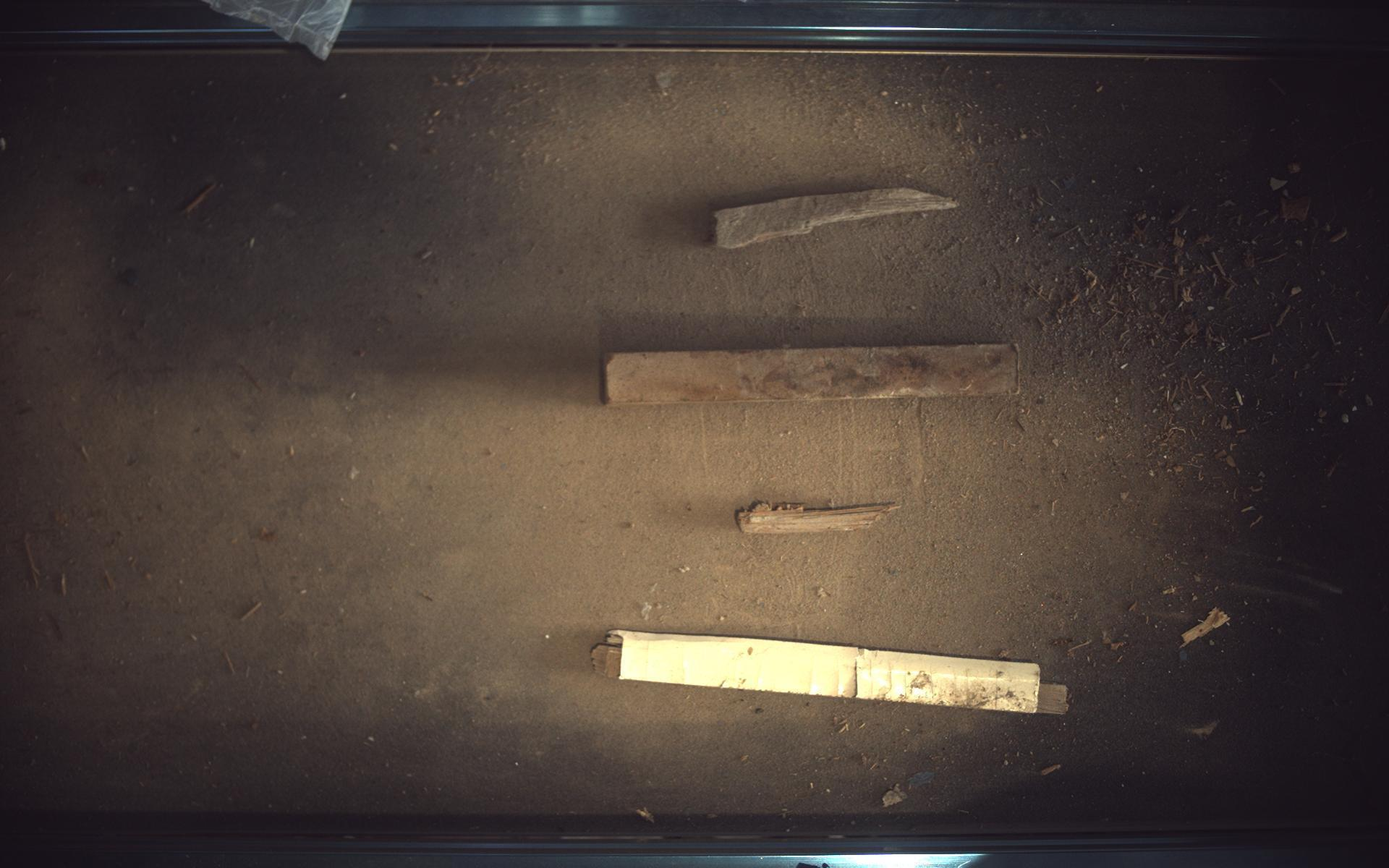wood: (592, 631, 1071, 715), (606, 344, 1020, 404), (715, 187, 960, 248), (738, 503, 901, 534)
